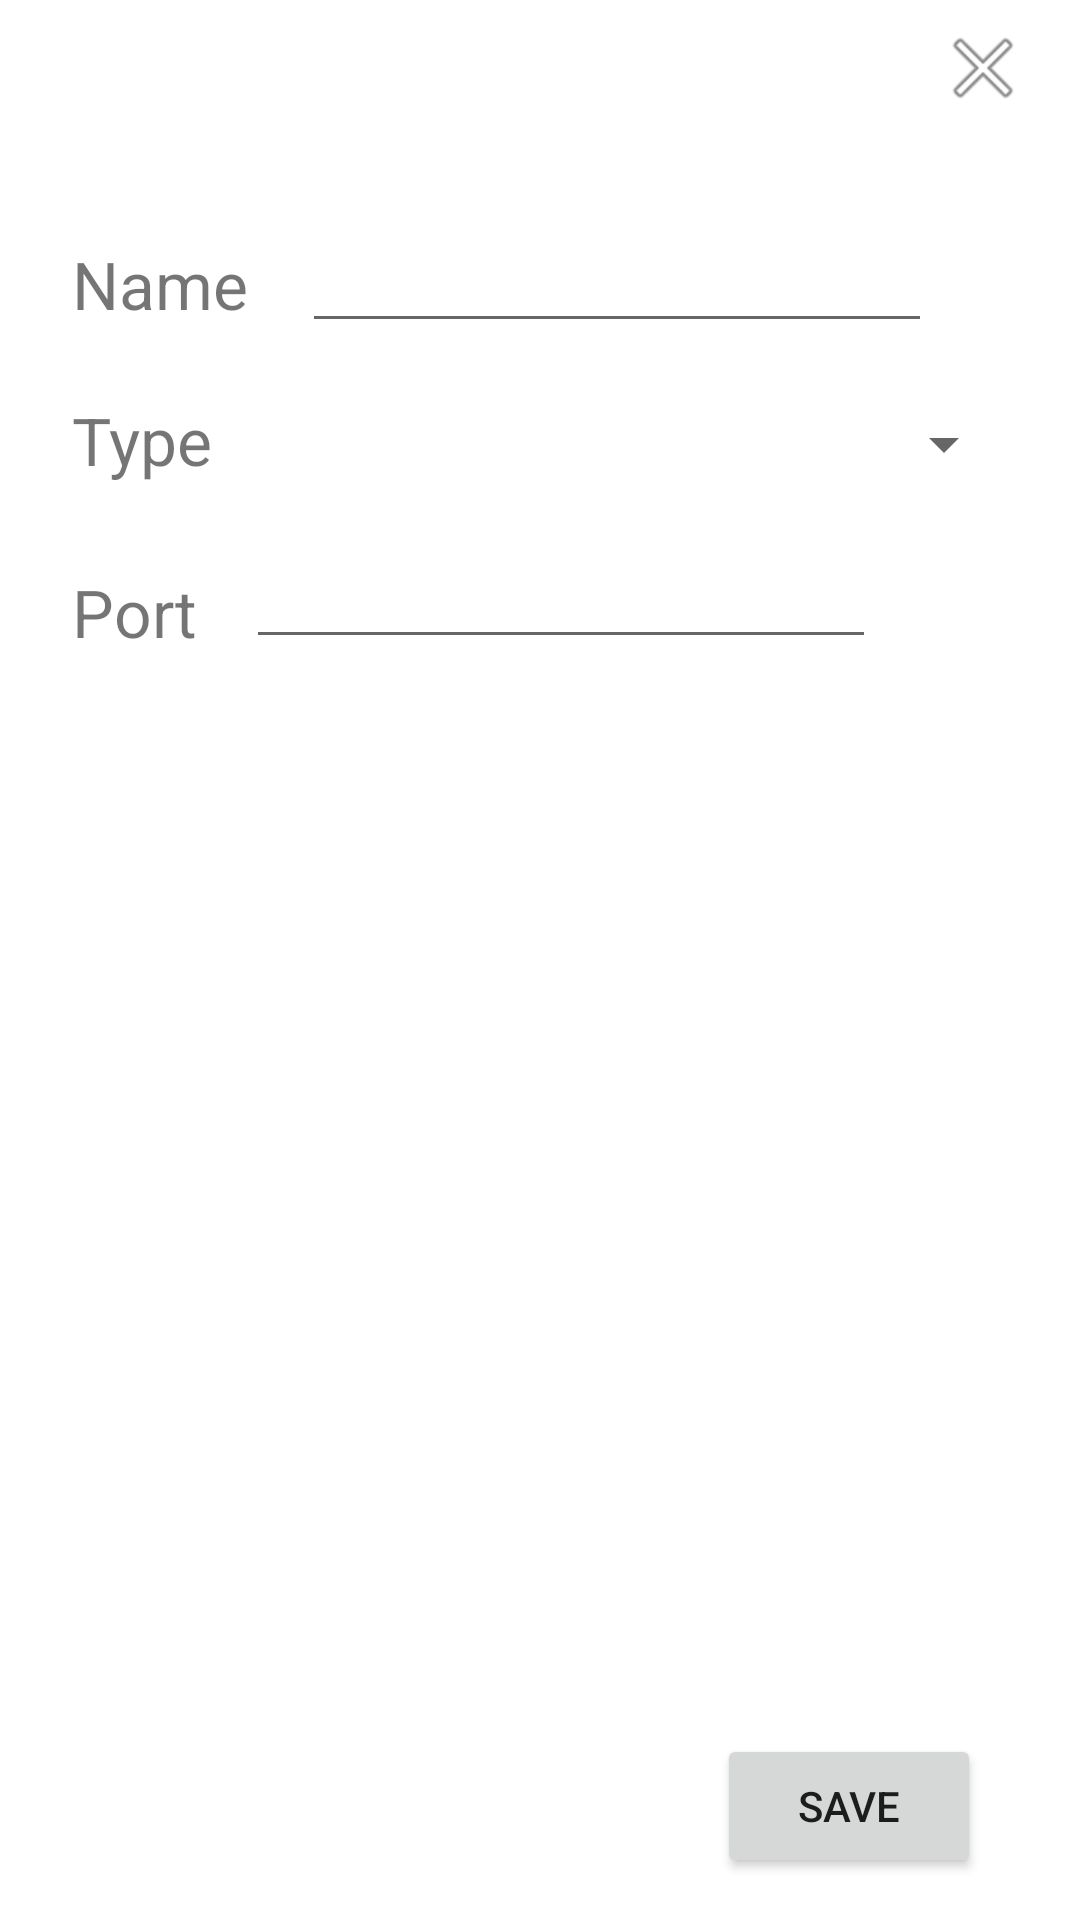

Locate icon controls on the screen. Image size 1080 x 1920, boxes as (x1, y1, x2, y2).
close clear cancel: (953, 38, 1013, 98)
